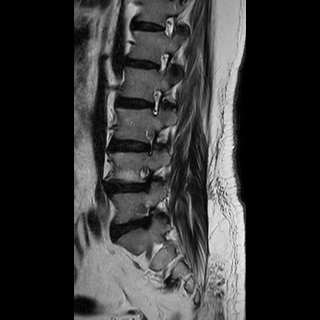RFS0: (148, 44, 176, 81), (142, 83, 167, 120)
RFS3: (132, 162, 159, 199), (137, 124, 164, 160)
